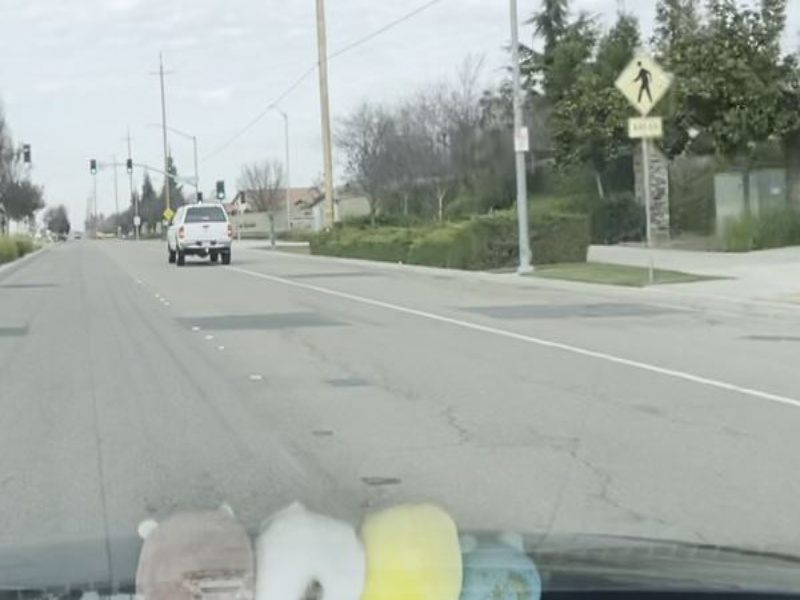walk sign: (614, 50, 672, 117)
